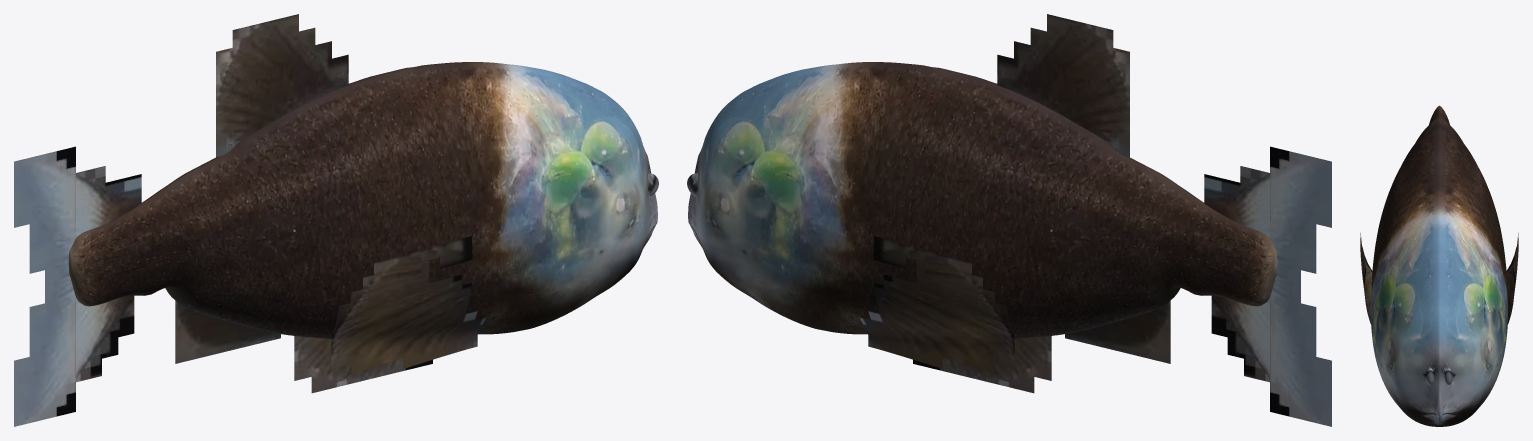
The model's file is real-macropinna_microstoma.glb.
The picture shows the model from 3 angles, left to right: view 1: azimuth 30°, elevation 25°; view 2: azimuth 150°, elevation 25°; view 3: azimuth 270°, elevation 25°; orthographic projection. The views are drawn at different scales.
Visible parts, largest first — view 1: macropinna_microstoma; view 2: macropinna_microstoma; view 3: macropinna_microstoma.
Boxes of the visible parts, x1,y1,x2,y2 form: macropinna_microstoma: [14, 14, 658, 426]; macropinna_microstoma: [687, 14, 1331, 426]; macropinna_microstoma: [1360, 105, 1518, 426].
Size of the model in its own units: 0.1504 by 0.0855 by 0.0425.
Materials: 1 (1 with a texture image).
